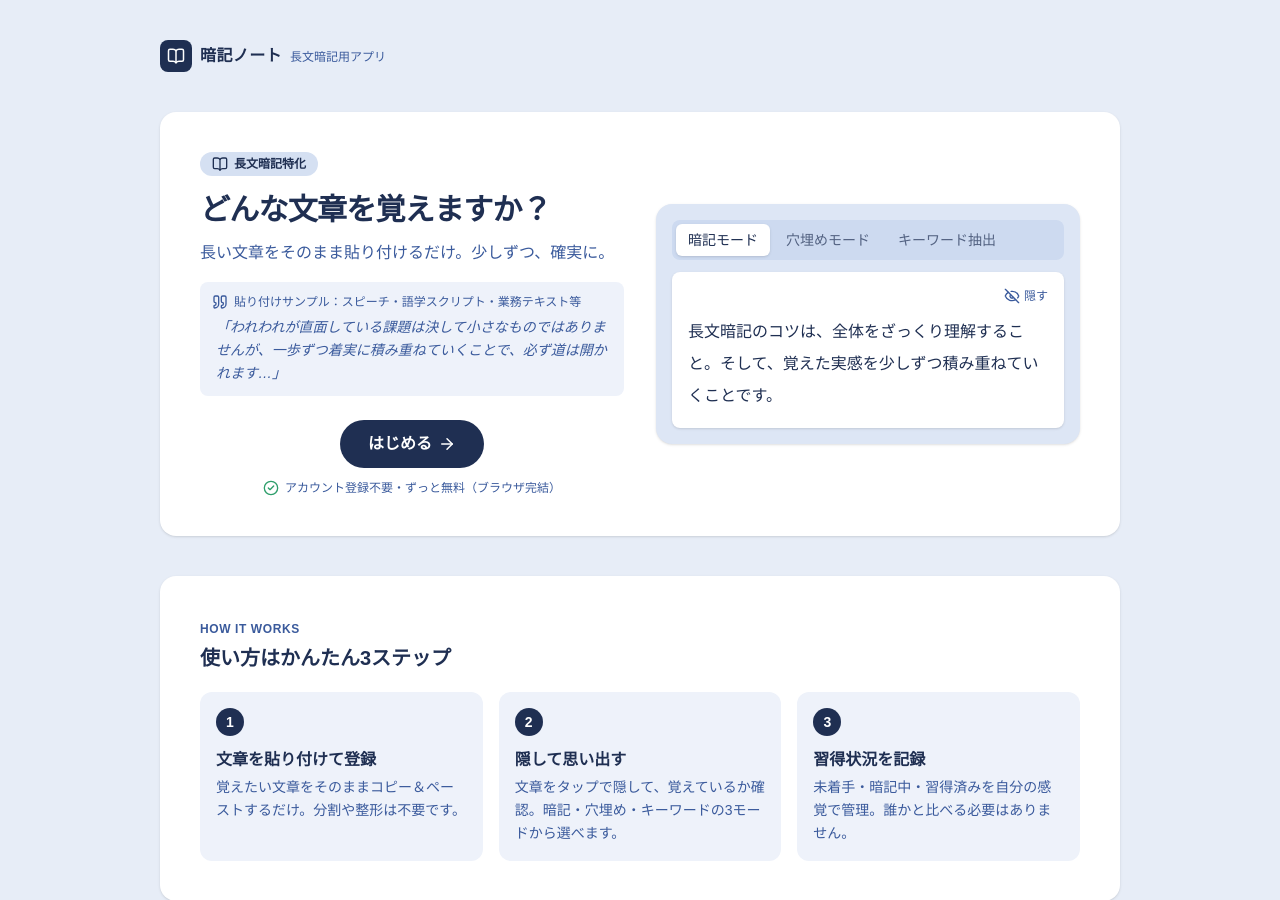
Test: LandingScreen › デモの暗記モードで「隠す」を押すと本文が隠れ、「タップで表示」で再表示される
The image size is (1280, 900).
Expected: the text "長文暗記のコツは、全体をざっくり理解すること。そして、覚えた実感を少しずつ積み重ねていくことです。" is shown, 688,288 -> 1048,412
What coordinates should you click on to do the following:
click the button "隠す"
I would click on:
 (1026, 296)
Its box is 1004,288 -> 1048,304.
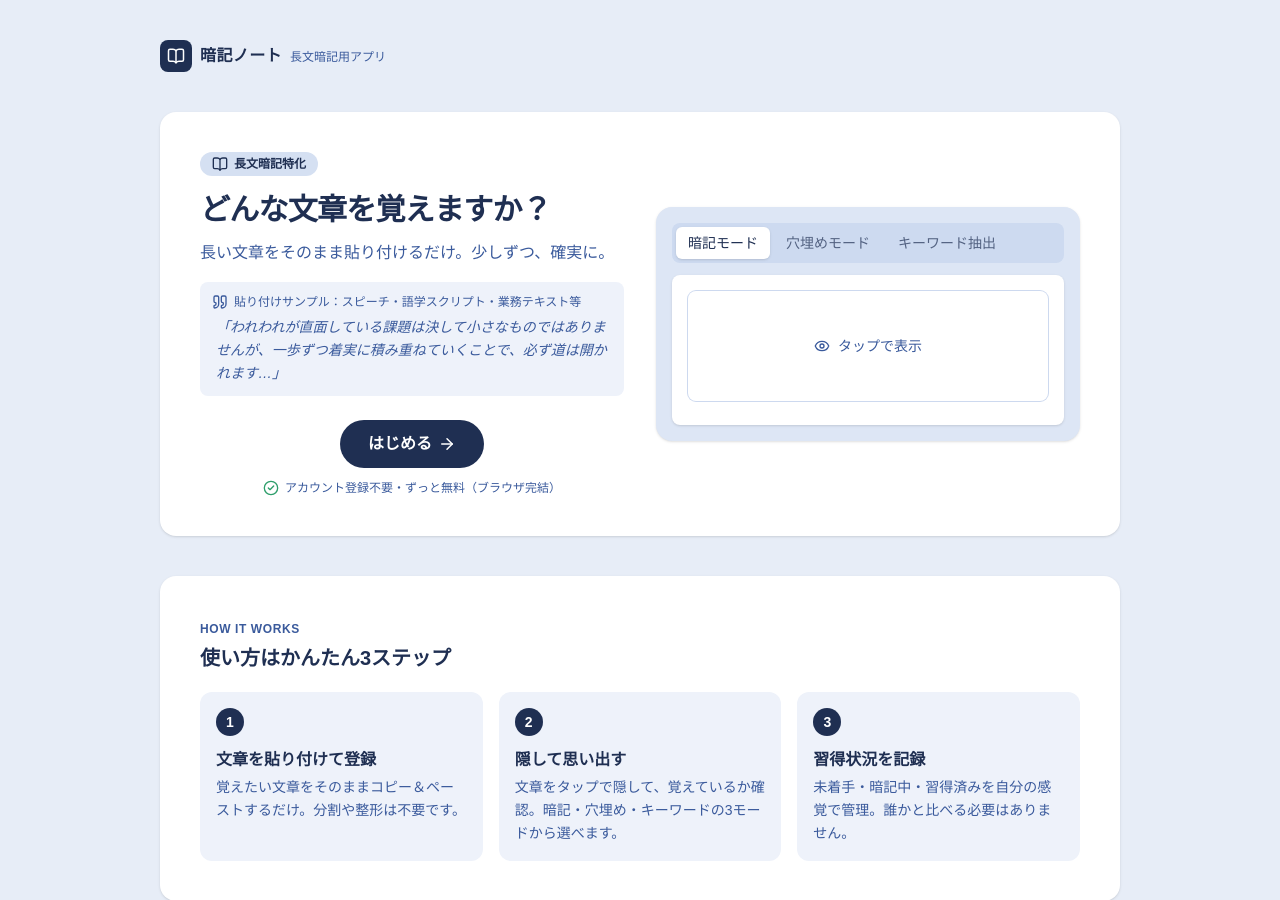
Now the text "長文暗記のコツは、全体をざっくり理解すること。そして、覚えた実感を少しずつ積み重ねていくことです。" is gone
Now the button "タップで表示" is shown
What coordinates should you click on to do the following:
click the button "タップで表示"
I would click on:
 (868, 346)
Its box is 688,291 -> 1048,401.
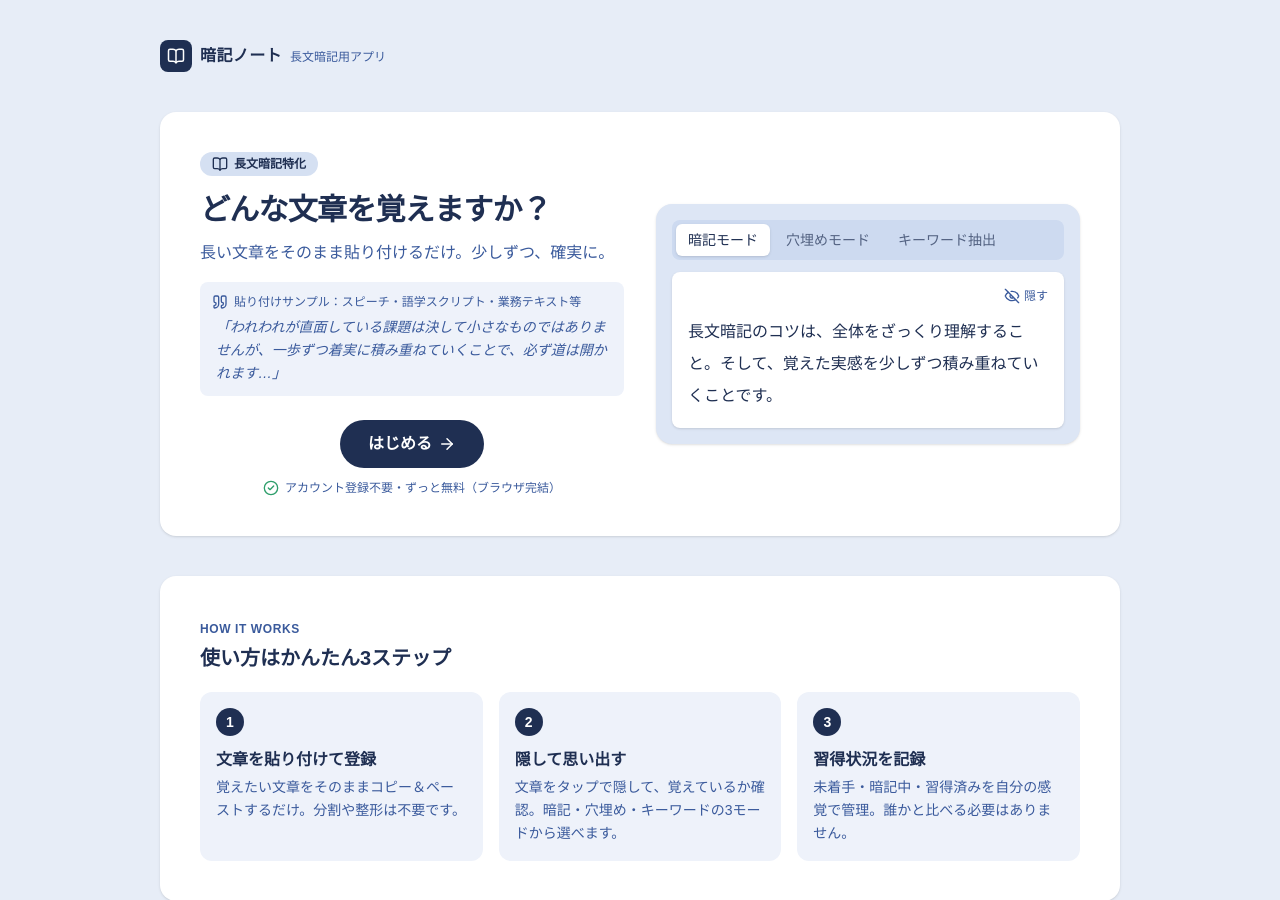
Now the text "長文暗記のコツは、全体をざっくり理解すること。そして、覚えた実感を少しずつ積み重ねていくことです。" is shown, box 688,288 -> 1048,412
